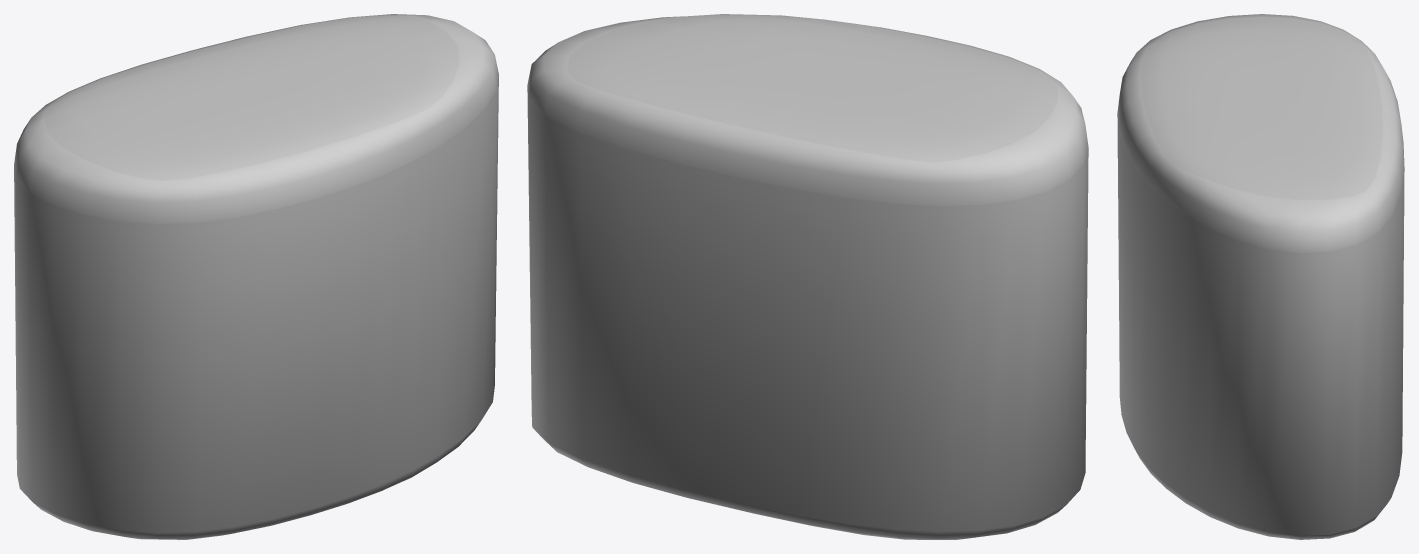
The model's file is big_stone_3_gray.fbx.
The picture shows the model from 3 angles, left to right: view 1: azimuth 30°, elevation 25°; view 2: azimuth 150°, elevation 25°; view 3: azimuth 270°, elevation 25°; orthographic projection. The views are drawn at different scales.
Visible parts, largest first — view 1: big_stone_3_gray; view 2: big_stone_3_gray; view 3: big_stone_3_gray.
Boxes of the visible parts, left/top/right/bottom form: big_stone_3_gray: left=14, top=14, right=498, bottom=539; big_stone_3_gray: left=527, top=14, right=1088, bottom=539; big_stone_3_gray: left=1117, top=14, right=1404, bottom=539.
Bounding box in the file's own units: 269 × 200 × 151.
